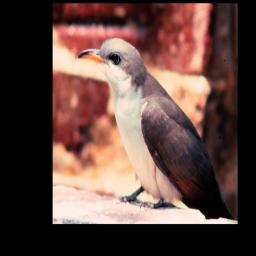Cuckoo: (77, 37, 234, 221)
